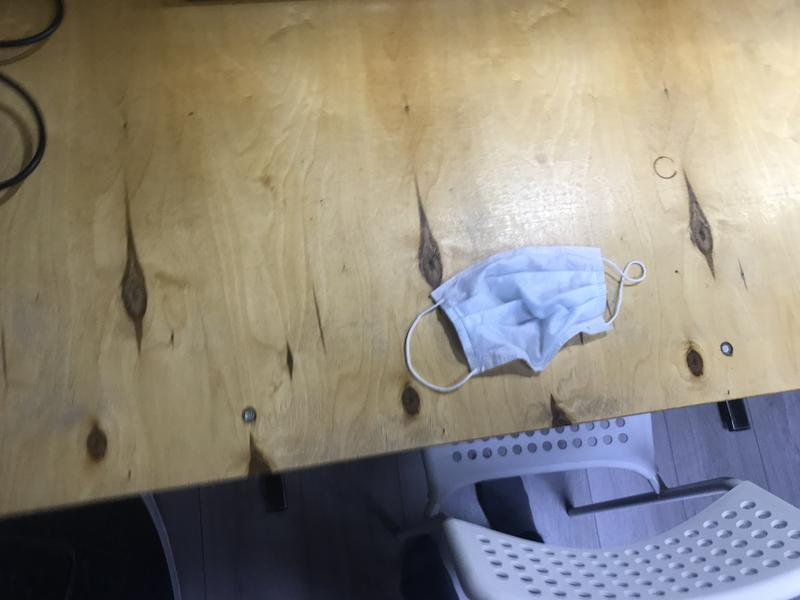medical_mask: (405, 245, 646, 393)
